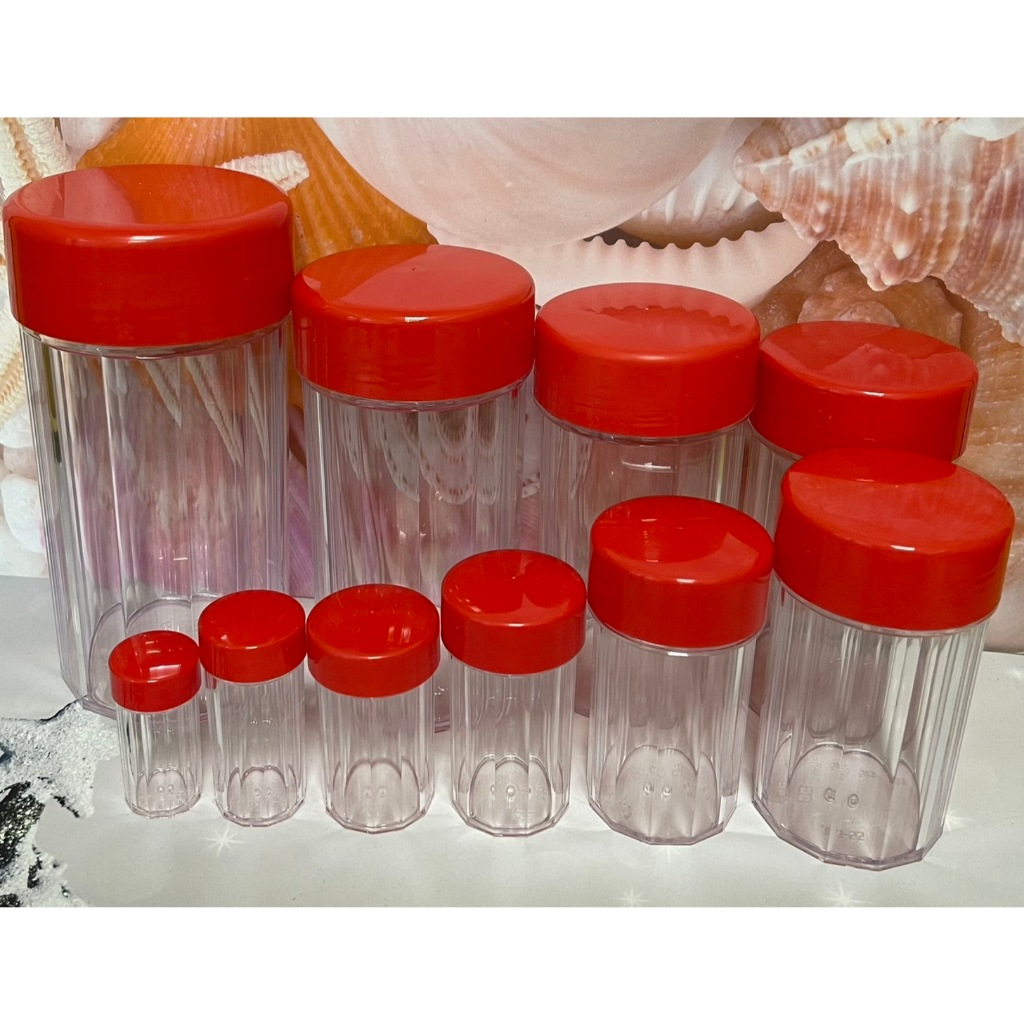medicinejar: (11, 156, 312, 708), (284, 239, 543, 747), (540, 281, 760, 766), (775, 447, 1018, 886), (763, 310, 979, 756), (590, 513, 779, 842), (451, 561, 590, 832), (297, 588, 450, 829), (185, 583, 324, 847), (111, 623, 211, 817)
